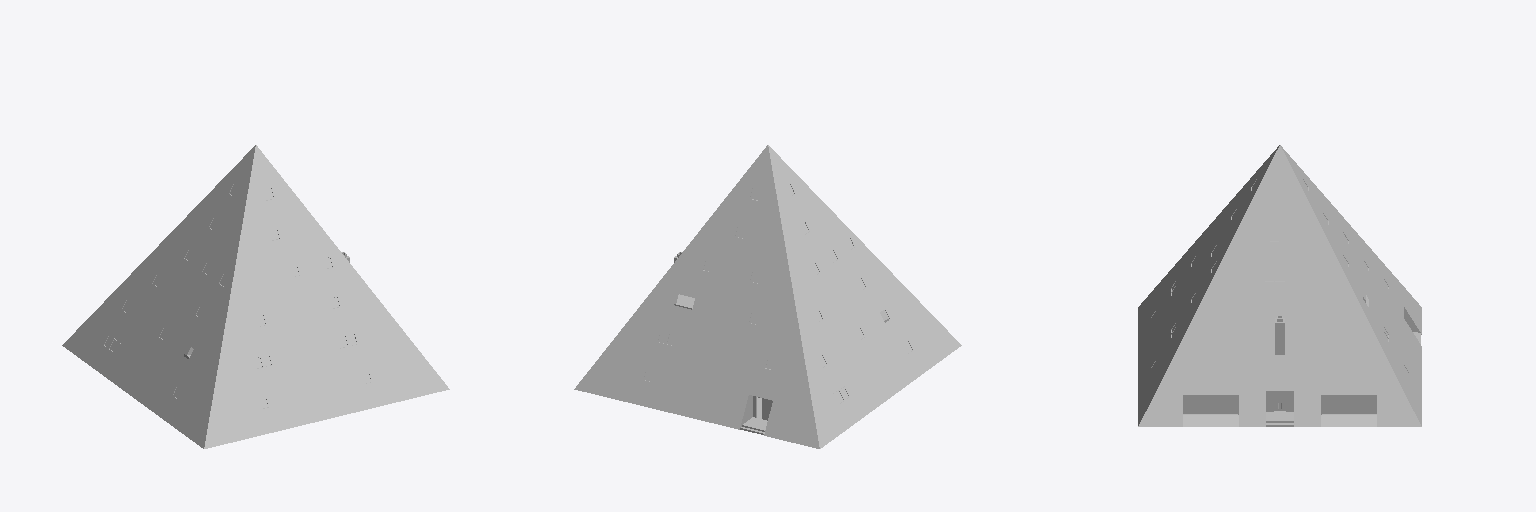
3 views of the same model, side by side, from view 1: azimuth 30°, elevation 25°; view 2: azimuth 150°, elevation 25°; view 3: azimuth 270°, elevation 25° (orthographic).
Parts seen in each view (by area): view 1: Layer0_001, level2_001, Level5_001, level3_001, level4_001; view 2: Layer0_001, level2_001, Level5_001, level3_001, level4_001; view 3: Layer0_001, level2_001, Level5_001, level3_001, level4_001, Door_Garage_Double_002, Door_Garage_Double_001.
Part boxes in pixels (x1,y1,x2,y2): Layer0_001: (62, 317, 449, 448); level2_001: (90, 289, 421, 405); Level5_001: (172, 145, 339, 275); level3_001: (117, 252, 394, 362); level4_001: (145, 232, 366, 319); Layer0_001: (574, 317, 961, 448); level2_001: (602, 289, 933, 405); Level5_001: (684, 145, 851, 275); level3_001: (629, 252, 906, 362); level4_001: (657, 232, 878, 319); Layer0_001: (1138, 285, 1421, 426); level2_001: (1158, 262, 1401, 386); Level5_001: (1219, 145, 1340, 266); level3_001: (1178, 239, 1381, 348); level4_001: (1198, 215, 1361, 306); Door_Garage_Double_002: (1183, 395, 1238, 414); Door_Garage_Double_001: (1321, 395, 1376, 414).
Bounding box in the file's own units: 977 × 846 × 977.